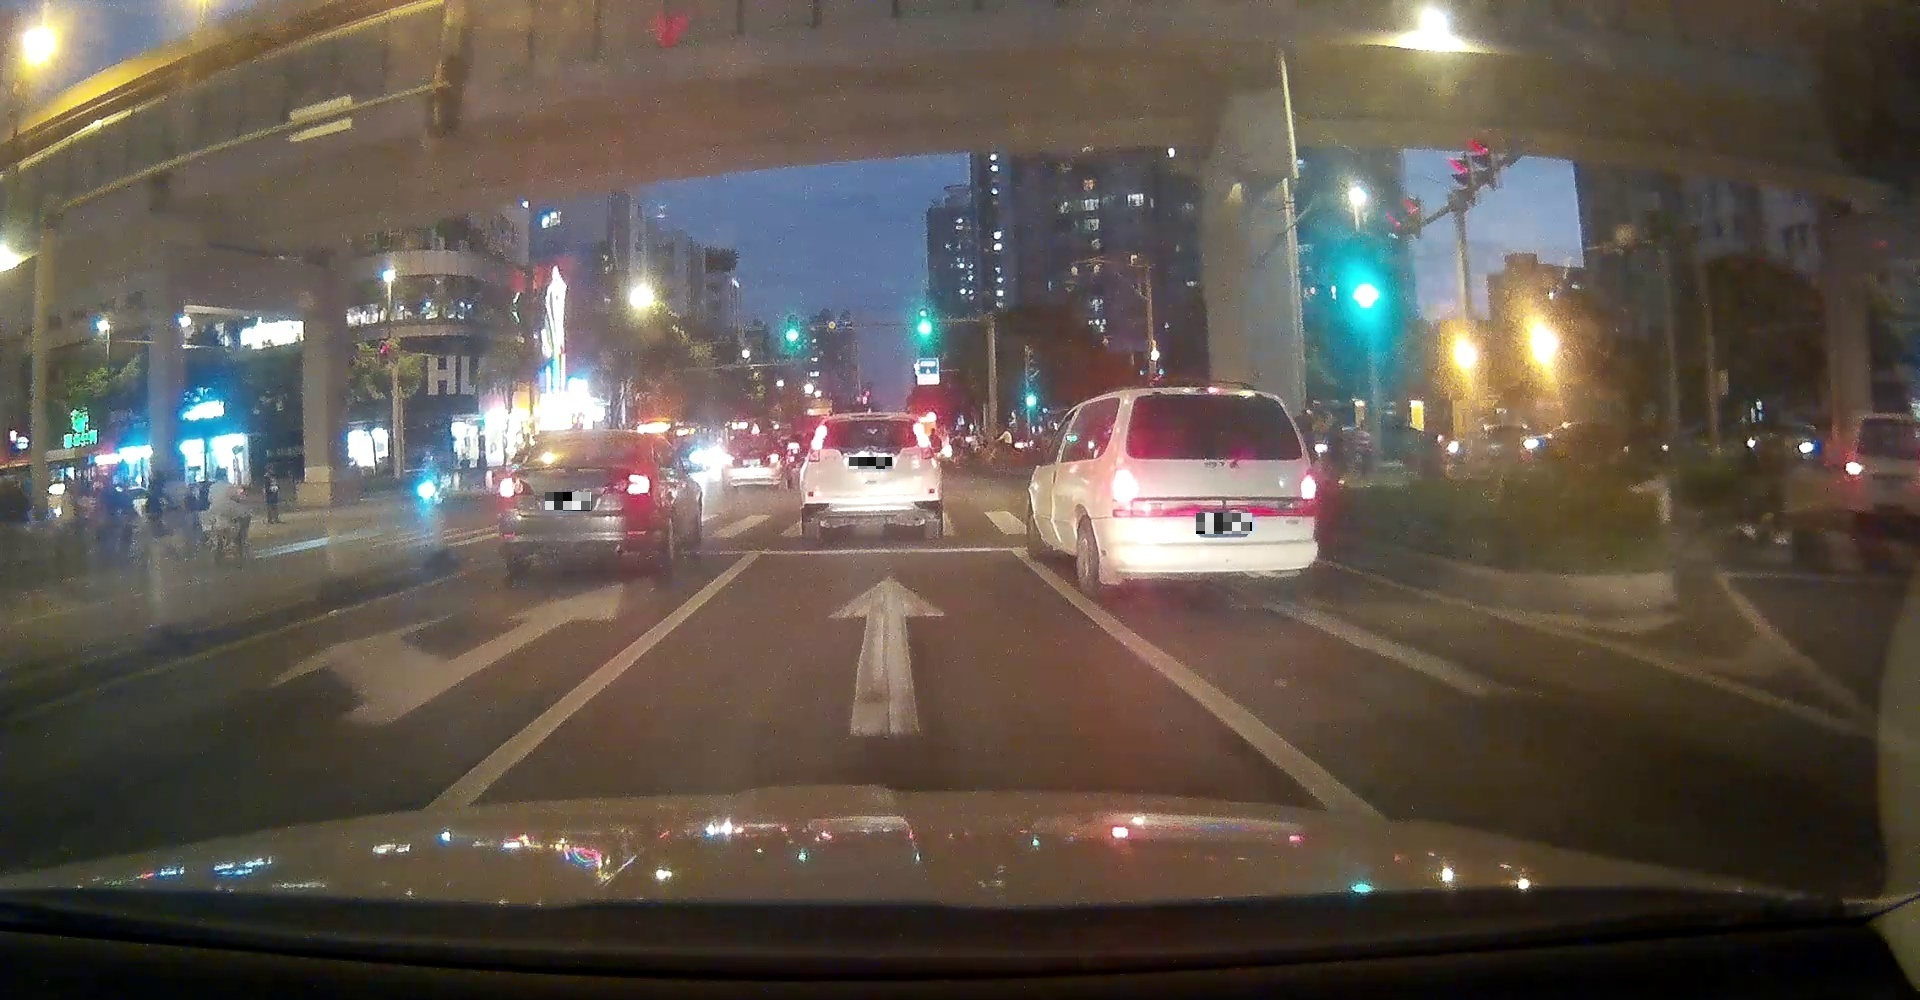L_light: (1111, 466, 1137, 505), (499, 476, 535, 499), (810, 424, 828, 451), (723, 452, 735, 463)
R_light: (604, 472, 651, 496), (1298, 470, 1318, 506), (912, 423, 931, 448), (764, 452, 778, 462)
T_light: (1197, 387, 1228, 396), (575, 434, 596, 442), (860, 412, 880, 420), (749, 439, 758, 442)
night-brake: (1106, 387, 1318, 602)
night-no: (498, 429, 654, 579), (805, 412, 936, 539), (721, 437, 785, 494)
plate_1: (545, 492, 590, 511)
plate_2: (850, 457, 891, 470)
plate_3: (1196, 513, 1252, 534)
